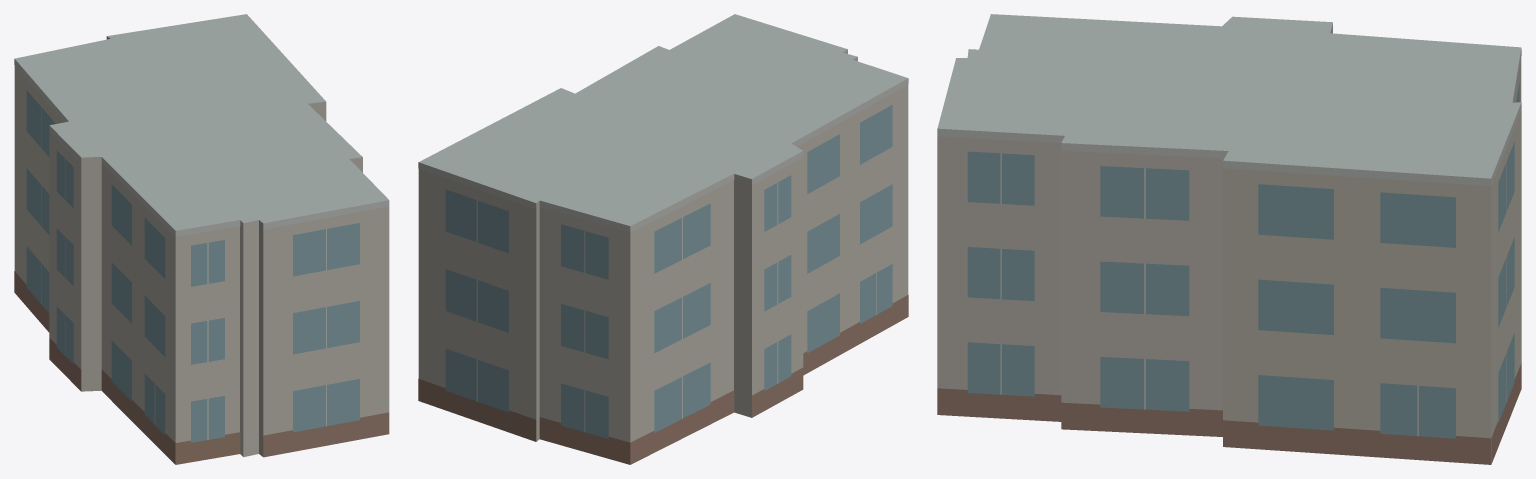
File: survey-upis-32485504.glb
The picture shows the model from 3 angles, left to right: view 1: azimuth 30°, elevation 25°; view 2: azimuth 150°, elevation 25°; view 3: azimuth 270°, elevation 25°; orthographic projection. The views are drawn at different scales.
Parts seen in each view (by area): view 1: survey-upis-32485504.tmp; view 2: survey-upis-32485504.tmp; view 3: survey-upis-32485504.tmp.
Part boxes in pixels (bbox=[...]): survey-upis-32485504.tmp: bbox=[14, 14, 389, 464]; survey-upis-32485504.tmp: bbox=[418, 14, 908, 464]; survey-upis-32485504.tmp: bbox=[937, 14, 1521, 464].
Size of the model in its own units: 11.29 by 9.15 by 16.93.
